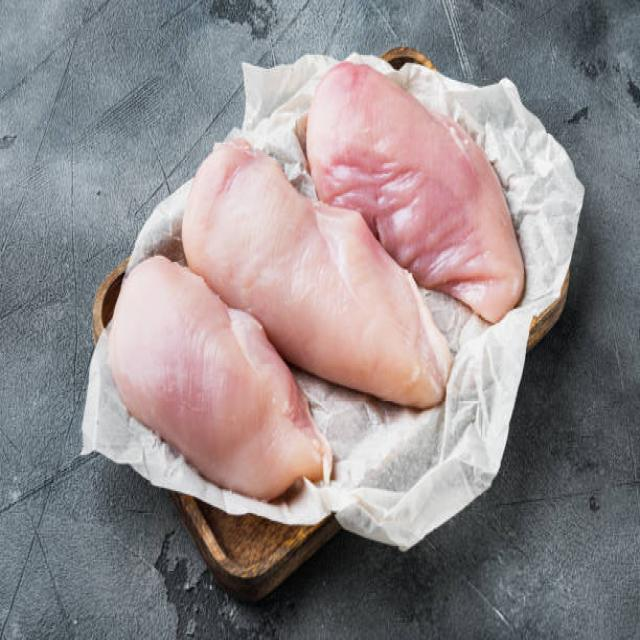Chicken: (85, 296, 286, 509), (331, 63, 535, 265), (181, 232, 406, 350)
